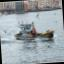fishing boat: (12, 17, 56, 44)
